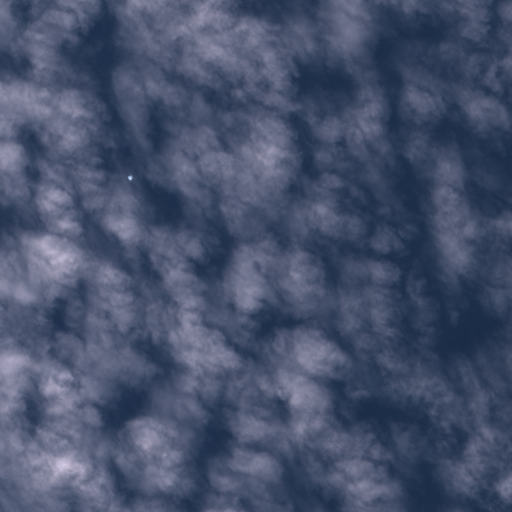Iceberg: (128, 175, 131, 180)
